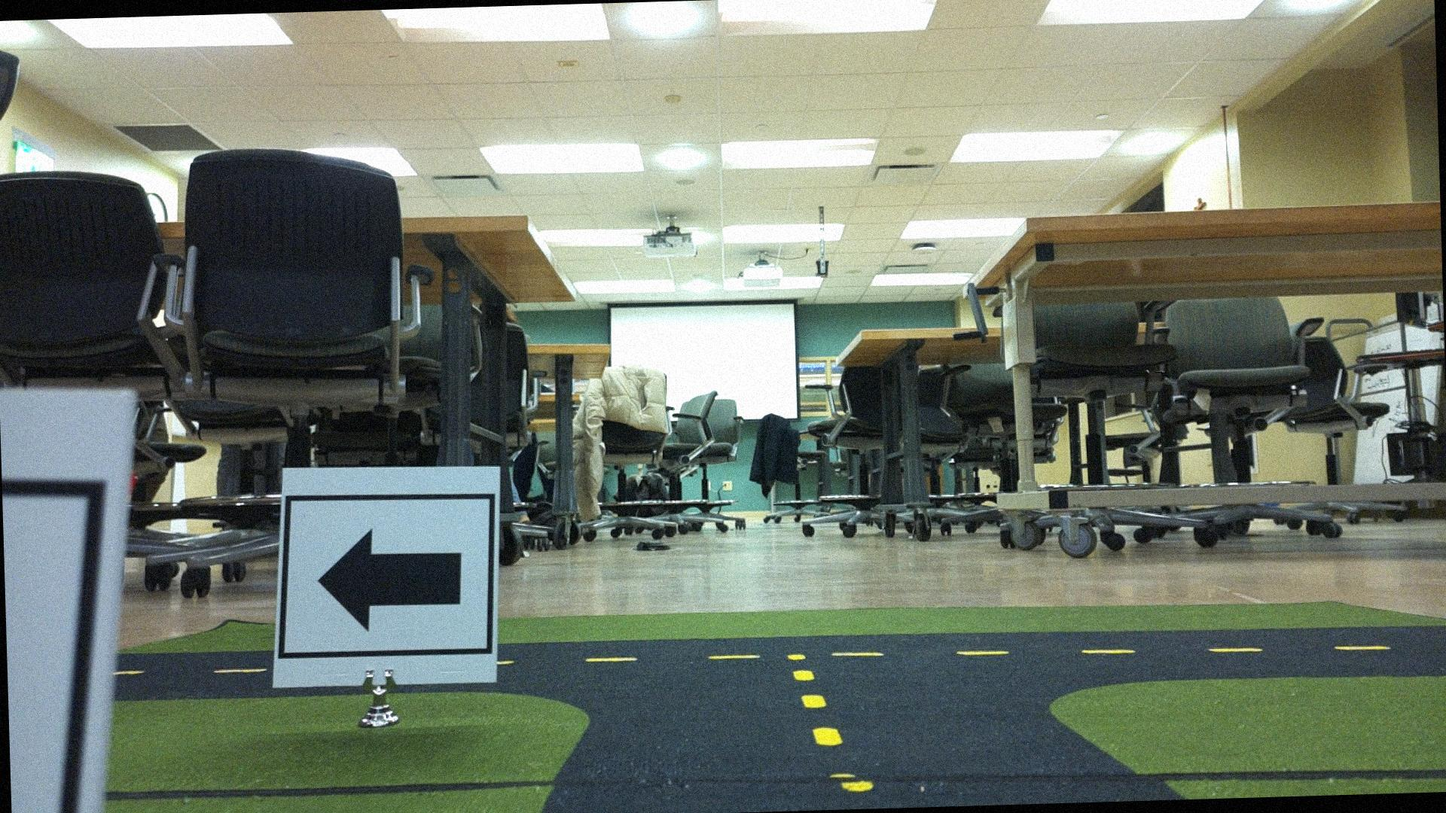turnleft: (277, 467, 497, 695)
yellowline: (790, 649, 844, 751)
